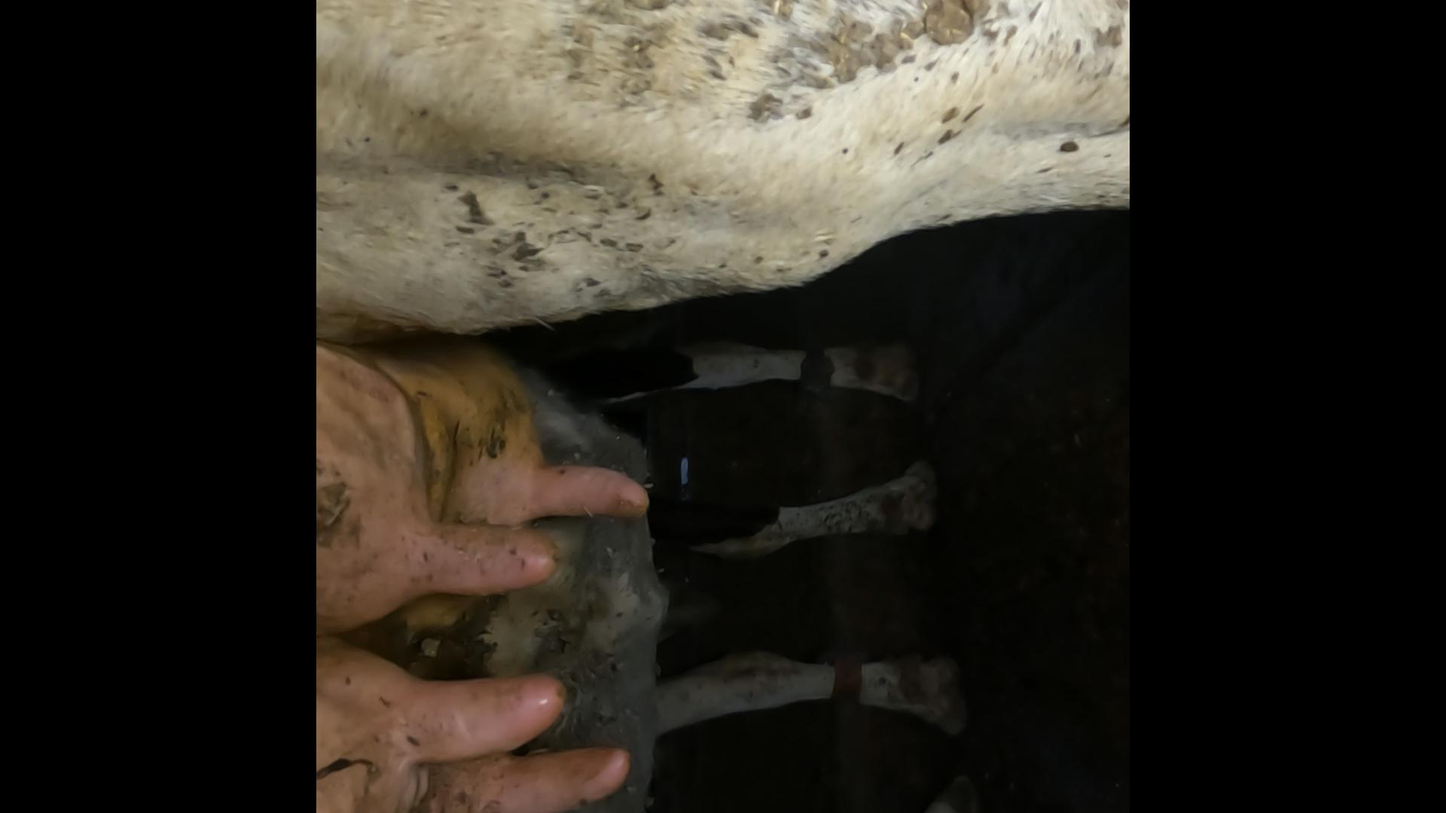Zitze: (379, 658, 579, 765), (409, 503, 574, 592), (475, 726, 639, 813), (525, 458, 657, 528)
